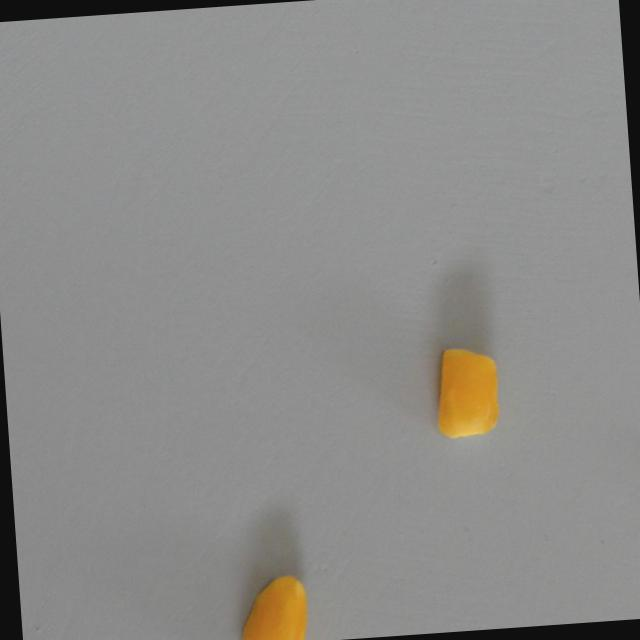estandar: (431, 343, 501, 439), (231, 572, 310, 640)
